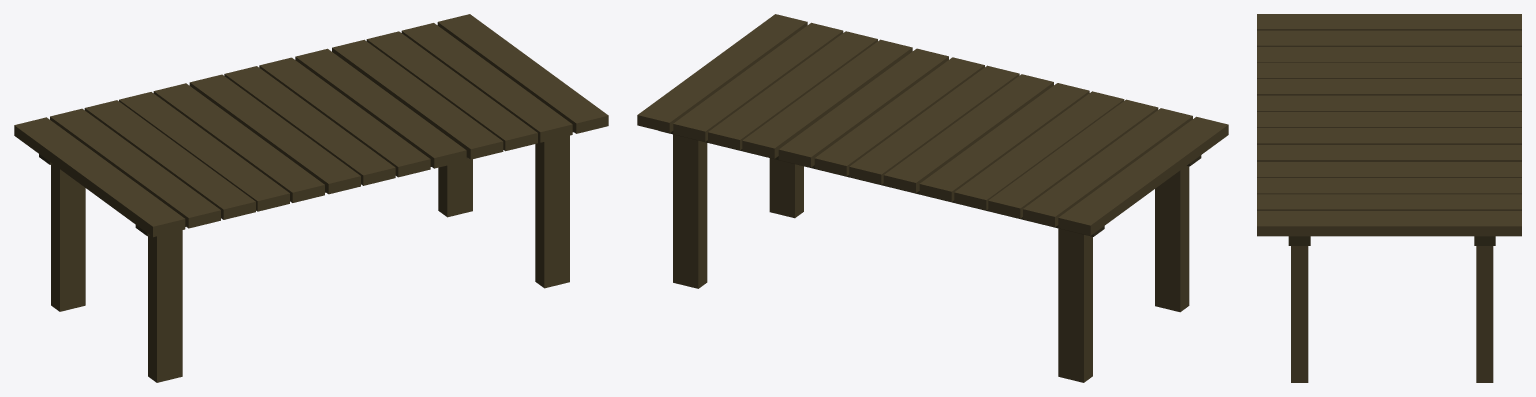
The model's file is FMP_Dock_Shaded.fbx.
3 views of the same model, side by side, from view 1: azimuth 30°, elevation 25°; view 2: azimuth 150°, elevation 25°; view 3: azimuth 270°, elevation 25° (orthographic). The views are drawn at different scales.
Visible parts, largest first — view 1: pCube143; view 2: pCube143; view 3: pCube143.
Boxes of the visible parts, bbox=[...] form: pCube143: bbox=[14, 14, 608, 382]; pCube143: bbox=[637, 14, 1228, 382]; pCube143: bbox=[1257, 14, 1521, 382].
Size of the model in its own units: 916 by 335 by 483.
